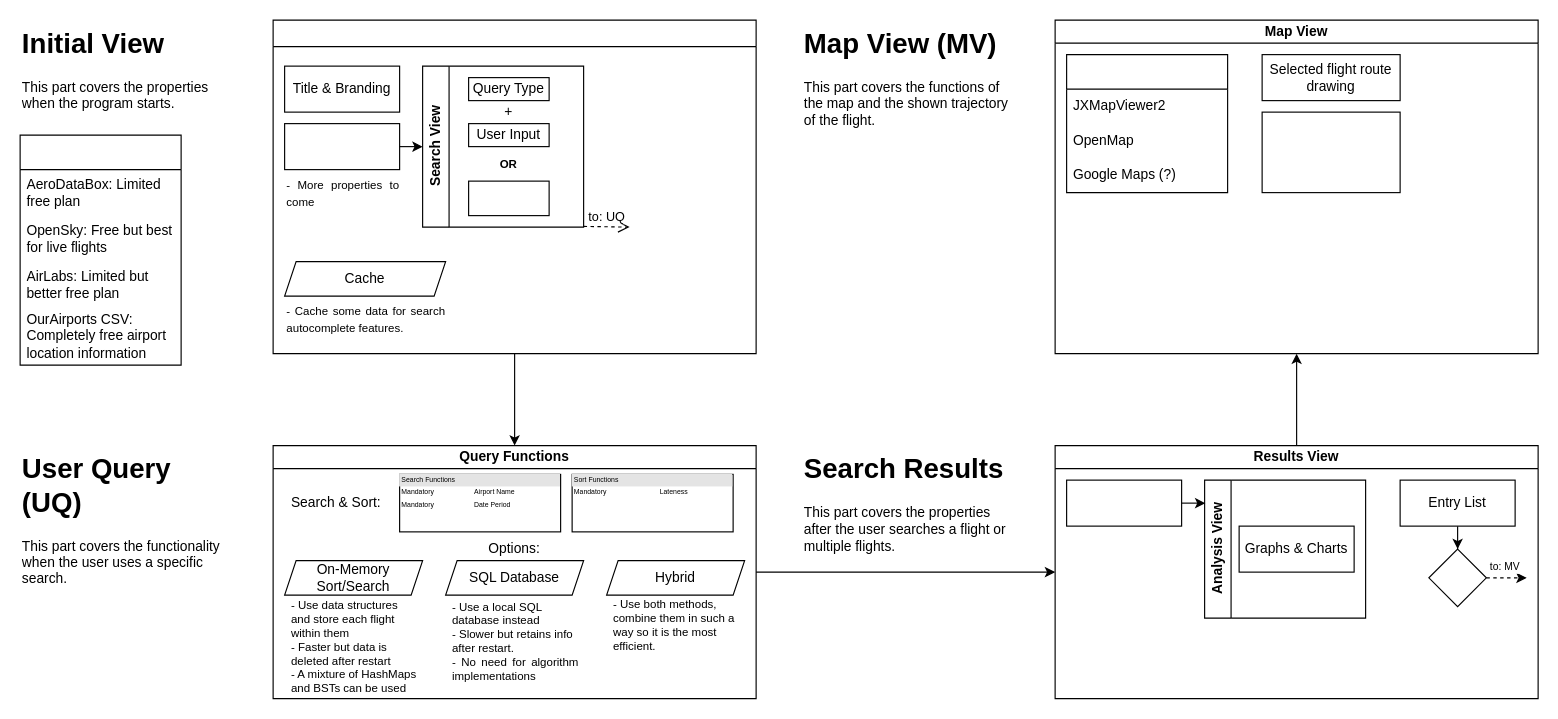
This 1558x719 diagram has some shape labels left out. The box of each missing label's shape, as (x1, y1, x2, y2) in pixels:
"Analyse" Button: (1065, 479, 1182, 526)
Dynamic Input: (467, 180, 549, 216)
Entry: (1428, 548, 1486, 607)
Heatmap of the found flights (i.e. departure/arrival locations): (1261, 111, 1400, 193)
Main View: (272, 19, 756, 354)
Map API: (1065, 53, 1228, 193)
Possible Flight APIs: (19, 134, 181, 365)
Search Bar: (283, 122, 400, 170)
